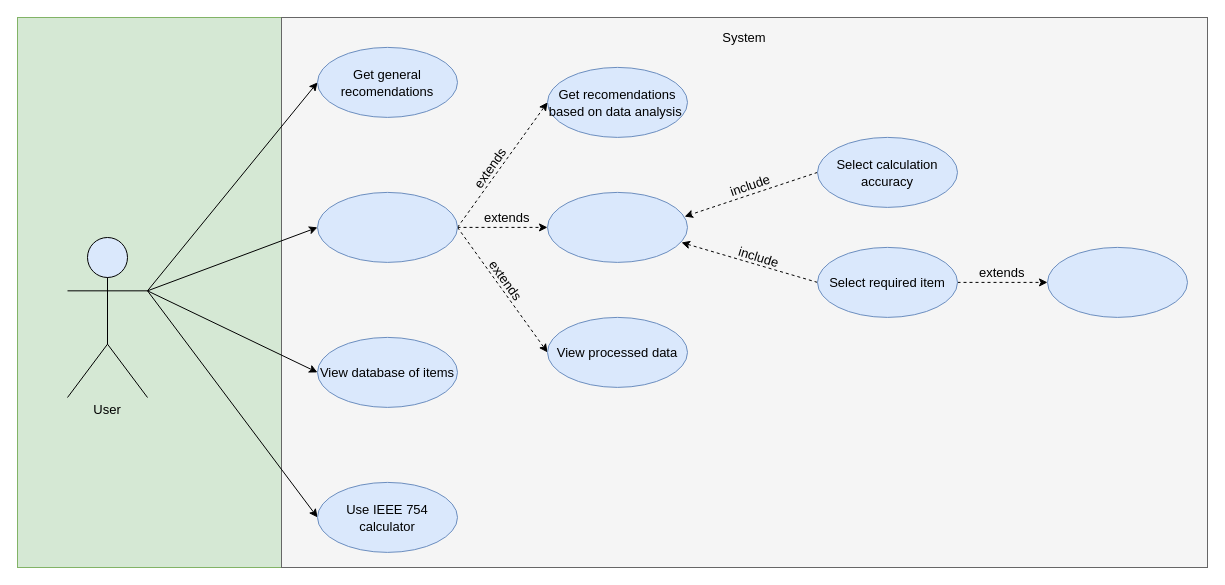
This 1225x585 diagram has some shape labels left out. The box of each missing label's shape, as (x1, y1, x2, y2) in pixels:
Assess risks: (1046, 246, 1188, 317)
Do calculations: (546, 191, 688, 262)
Enter data: (316, 191, 458, 262)
